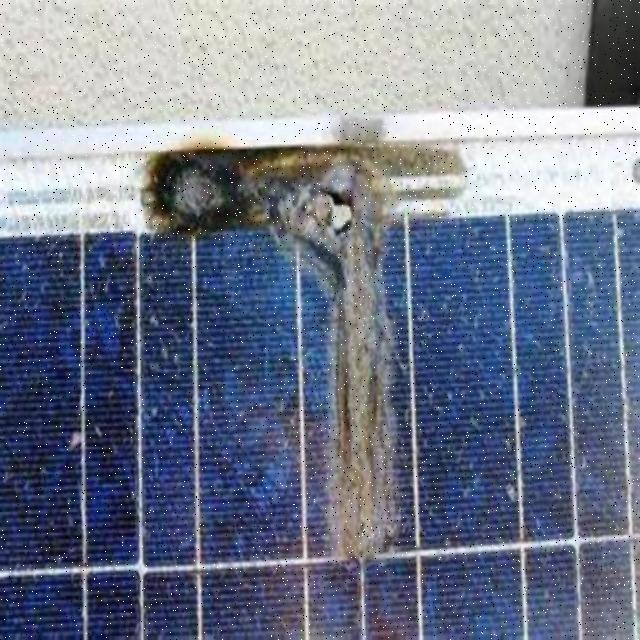electrical damage: (126, 130, 478, 574)
